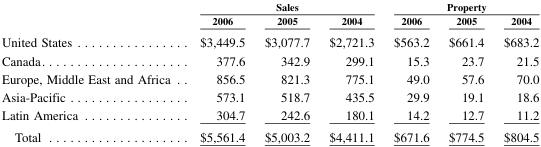table: (0, 0, 538, 143)
table column: (0, 0, 184, 143), (184, 0, 254, 143), (318, 0, 383, 143), (254, 0, 318, 143), (383, 0, 438, 143), (438, 0, 493, 143), (493, 0, 538, 143)
table column header: (0, 0, 538, 30)
table row: (0, 30, 538, 51), (0, 105, 538, 125), (0, 51, 538, 69), (0, 69, 538, 87), (0, 87, 538, 105), (0, 125, 538, 143), (0, 13, 538, 30), (0, 0, 538, 13)
table spanning cell: (184, 0, 383, 13), (383, 0, 538, 13)
